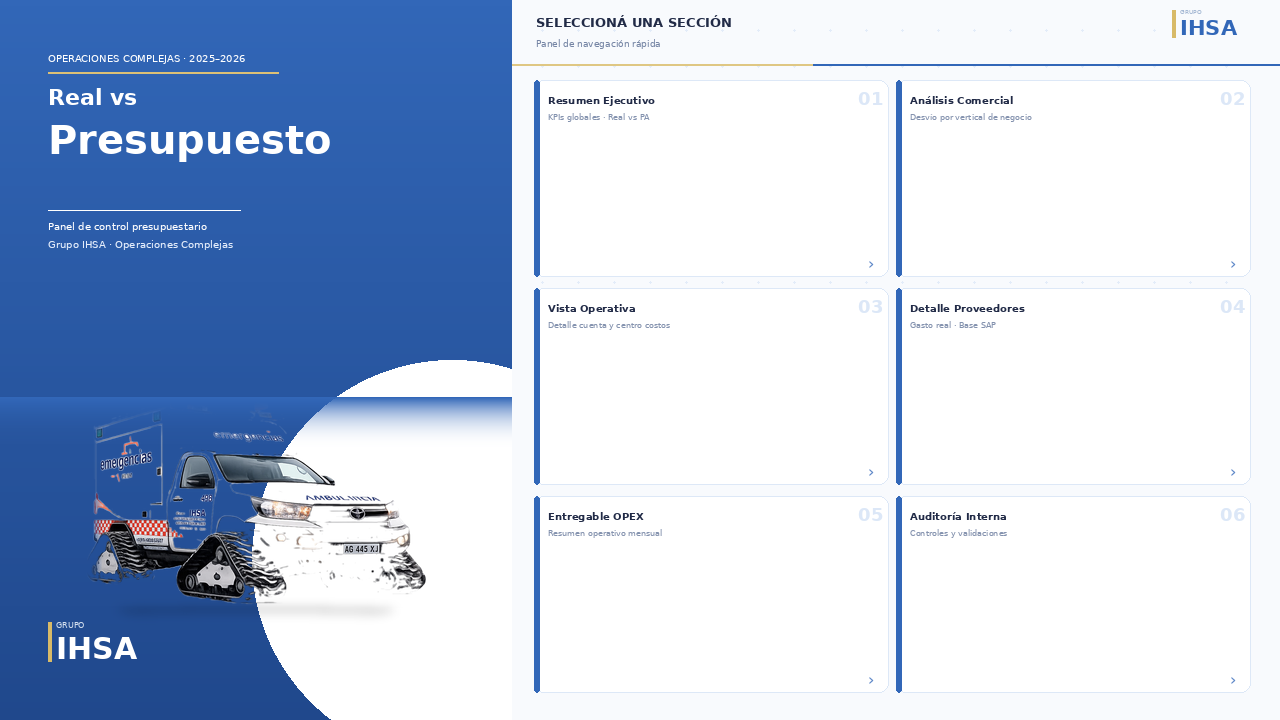

What the dashboard file says about the page in this screenshot:
{"tool":"powerbi","page":{"name":"0. Índice","canvas":[1280,720],"ordinal":0},"visuals":[{"type":"pageNavigator","box":[544,64,736,640],"z":0},{"type":"image","box":[0,240,496,480],"z":1000}]}

Visuals, with their boxes in screenshot pixels (x1, y1, x2, y2), scaled from the page's 1280x720 canvas onto the 1280x720 screenshot:
pageNavigator: <region>544, 64, 1279, 704</region>
image: <region>0, 240, 496, 719</region>
